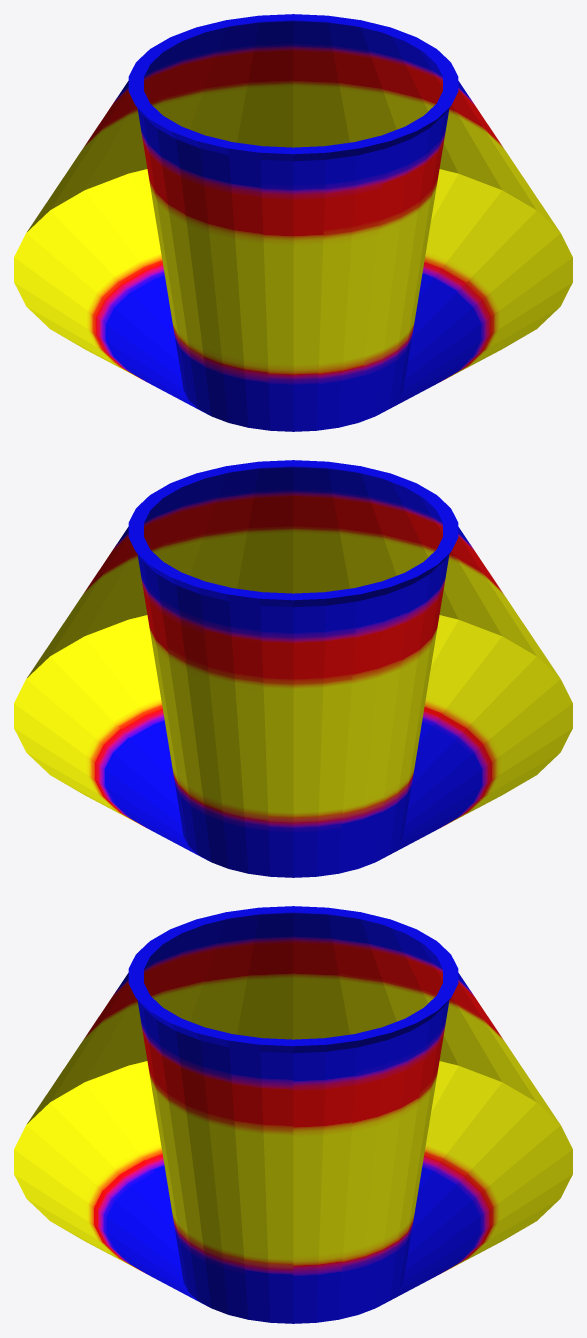
The picture shows the model from 3 angles, top to bottom: view 1: azimuth 30°, elevation 25°; view 2: azimuth 150°, elevation 25°; view 3: azimuth 270°, elevation 25°; orthographic projection.
Parts seen in each view (by area): view 1: algeomath; view 2: algeomath; view 3: algeomath.
Boxes of the visible parts, x1,y1,x2,y2 form: algeomath: (14, 14, 572, 431); algeomath: (14, 460, 572, 877); algeomath: (14, 906, 572, 1323).
Size of the model in its own units: 5.86 by 3.47 by 5.83.
Materials: 1 (1 with a texture image).
